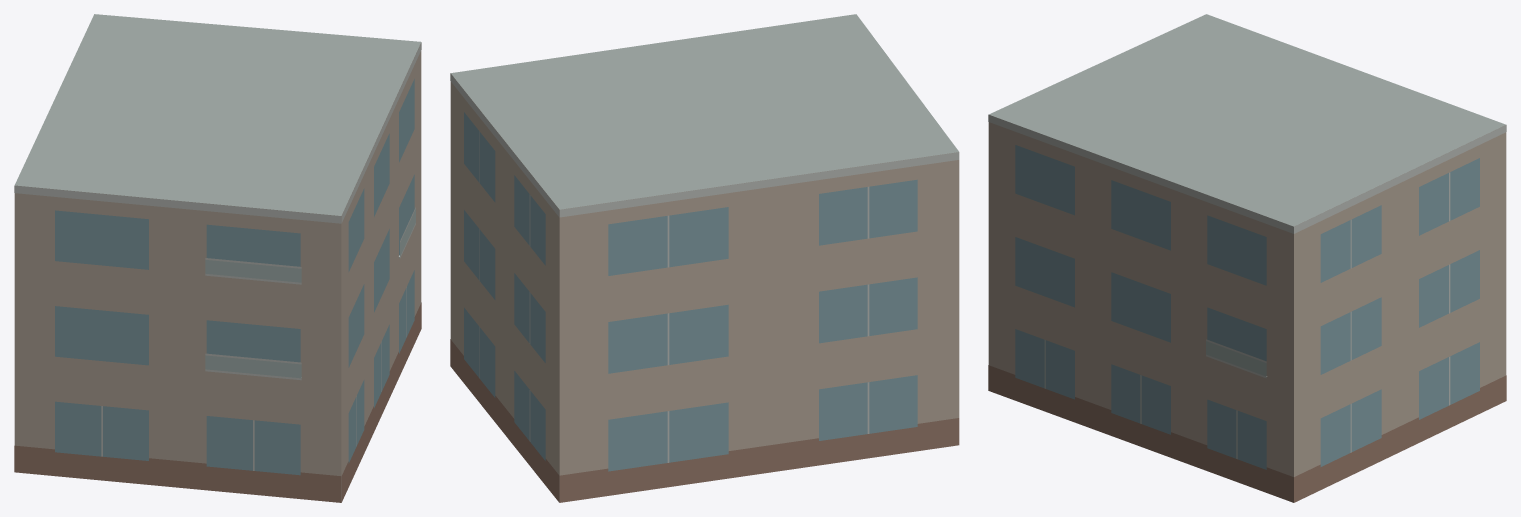
The model's file is survey-upis-32722083.glb.
The picture shows the model from 3 angles, left to right: view 1: azimuth 30°, elevation 25°; view 2: azimuth 150°, elevation 25°; view 3: azimuth 270°, elevation 25°; orthographic projection. The views are drawn at different scales.
Visible parts, largest first — view 1: survey-upis-32722083.tmp; view 2: survey-upis-32722083.tmp; view 3: survey-upis-32722083.tmp.
Boxes of the visible parts, x1,y1,x2,y2 form: survey-upis-32722083.tmp: (14, 14, 421, 502); survey-upis-32722083.tmp: (450, 14, 959, 502); survey-upis-32722083.tmp: (988, 14, 1506, 502).
Bounding box in the file's own units: 15.11 × 9.15 × 15.55.
